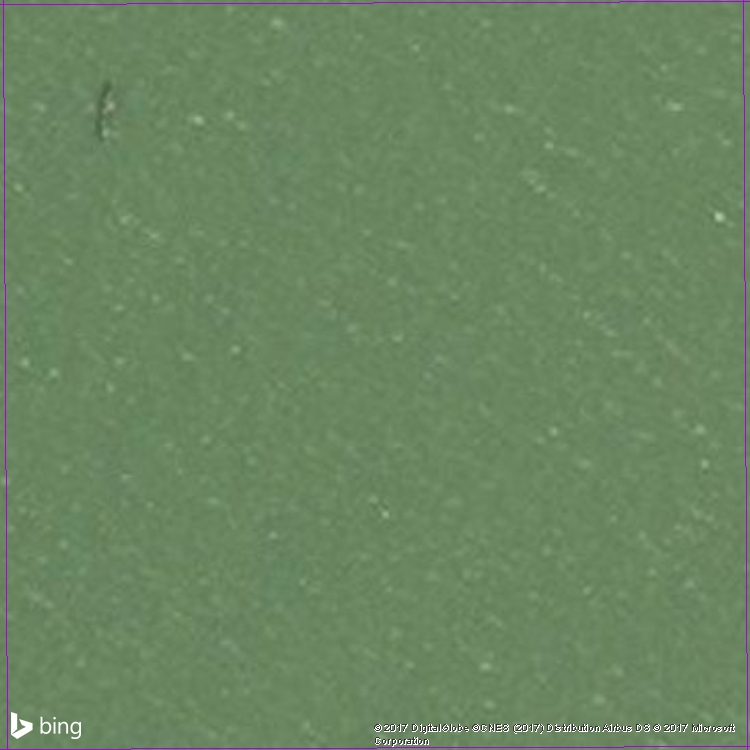boat: (88, 79, 125, 146)
